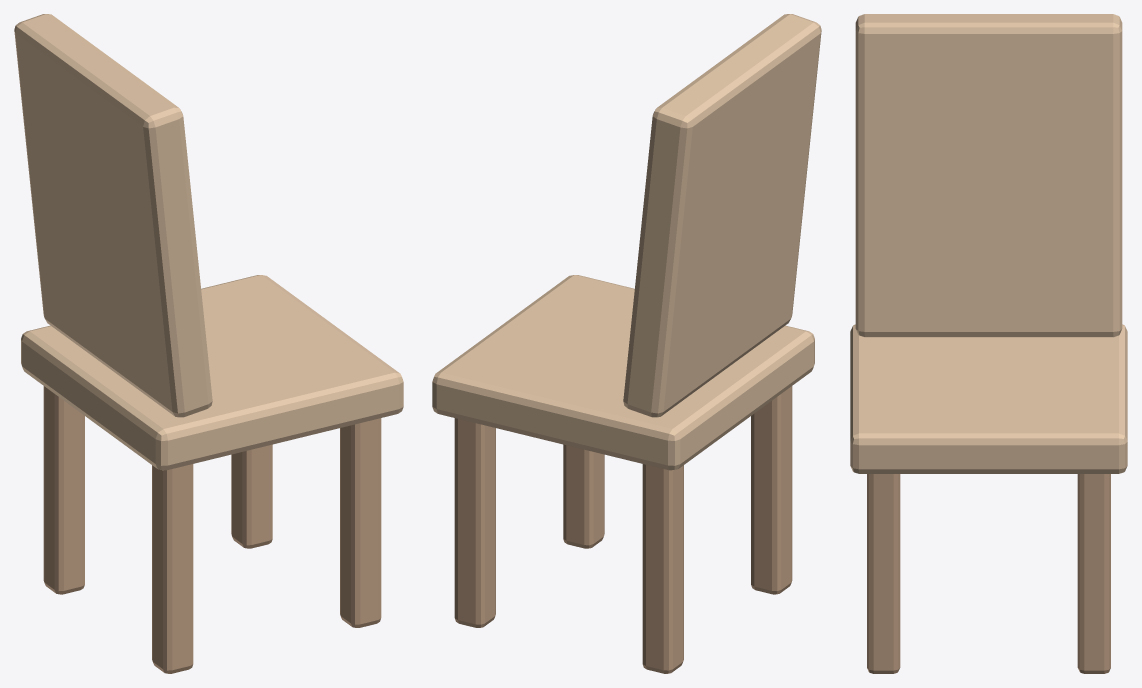
The model's file is kit_chair.glb.
3 renders of one model, left to right at view 1: azimuth 30°, elevation 25°; view 2: azimuth 150°, elevation 25°; view 3: azimuth 270°, elevation 25°, orthographic. The views are drawn at different scales.
Parts seen in each view (by area): view 1: kit_chair.001; view 2: kit_chair.001; view 3: kit_chair.001.
Part boxes in pixels (box(x1,y1,x2,y2)): kit_chair.001: box(14, 14, 403, 673); kit_chair.001: box(432, 14, 821, 673); kit_chair.001: box(850, 14, 1127, 673).
Bounding box in the file's own units: 0.5195 × 1.1 × 0.5.
